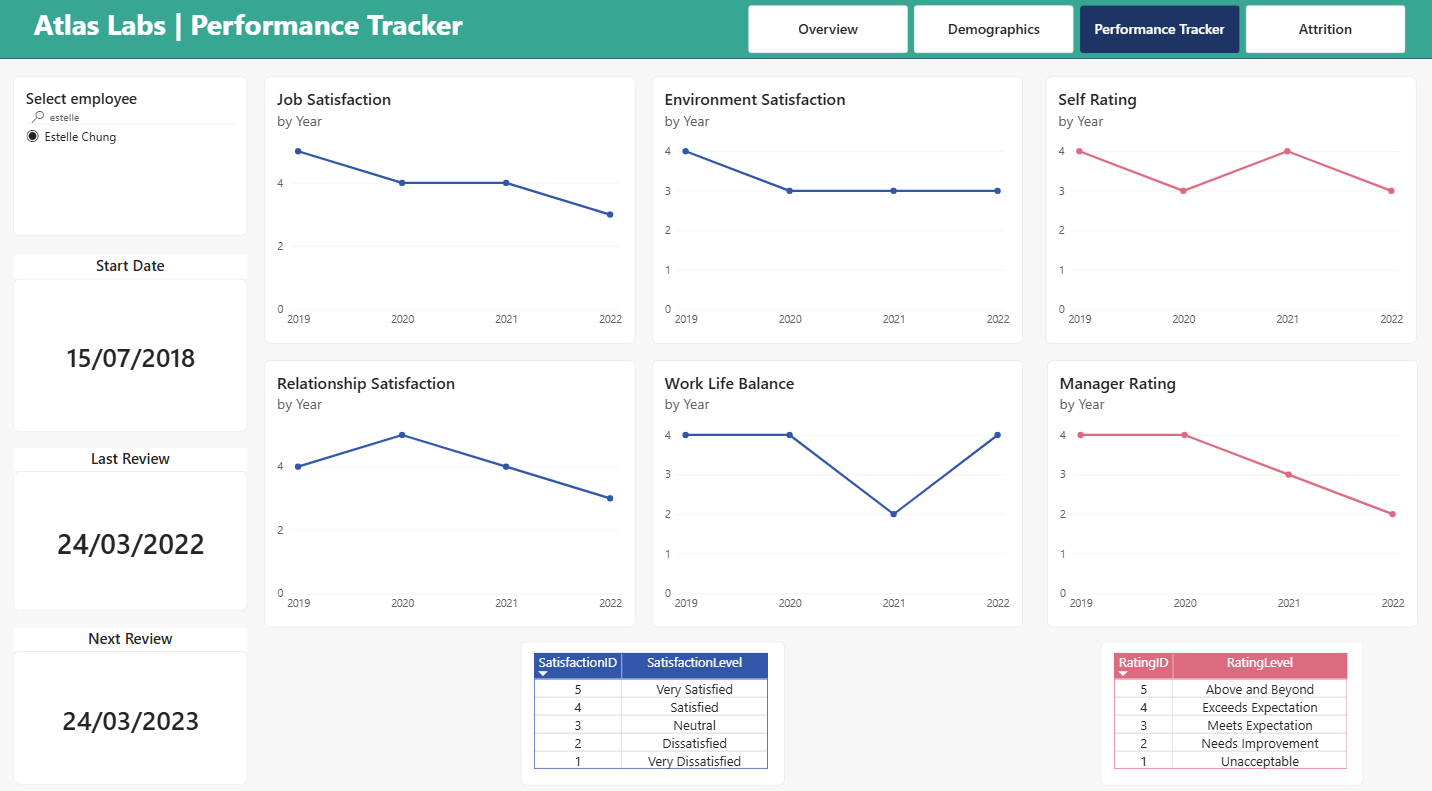

What the dashboard file says about the page in this screenshot:
{"tool":"powerbi","page":{"name":"Performance Tracker","canvas":[1920,1080],"ordinal":2},"visuals":[{"type":"listSlicer","title":"Select employee","fields":{"Values":["DimEmployee.FullName"]},"box":[22,104,312,212],"z":0},{"type":"cardVisual","title":"Start Date","fields":{"Data":["Min(DimEmployee.HireDate)"]},"box":[22,342,312,236],"z":1000},{"type":"cardVisual","title":"Last Review","fields":{"Data":["_Measures.LastReviewDate"]},"box":[22,598,312,218],"z":2000},{"type":"cardVisual","title":"Next Review","fields":{"Data":["_Measures.NextReviewDate"]},"box":[22,838,312,210],"z":3000},{"type":"shape","box":[0,0,1920.1,79.6],"z":4000},{"type":"textbox","box":[0,9,669.6,70.6],"z":5000},{"type":"pageNavigator","box":[1002,8,876,64],"z":6000},{"type":"lineChart","fields":{"Y":["_Measures.JobSatisfaction"],"Category":["DimDate.Year"]},"box":[356,104,494,356],"z":7000},{"type":"lineChart","fields":{"Category":["DimDate.Year"],"Y":["_Measures.EnvironmentSatisfaction"]},"box":[874,104,494,356],"z":8000},{"type":"lineChart","fields":{"Category":["DimDate.Year"],"Y":["_Measures.SelfRating"]},"box":[1398,104,494,356],"z":9000},{"type":"lineChart","fields":{"Category":["DimDate.Year"],"Y":["_Measures.RelationshipSatisfaction"]},"box":[356,482,494,356],"z":10000},{"type":"lineChart","fields":{"Category":["DimDate.Year"],"Y":["_Measures.WorkLifeBalance"]},"box":[874,482,494,356],"z":11000},{"type":"lineChart","fields":{"Category":["DimDate.Year"],"Y":["_Measures.ManagerRating"]},"box":[1400,482,494,356],"z":12000},{"type":"tableEx","fields":{"Values":["DimSatisfiedLevel.SatisfactionID","DimSatisfiedLevel.SatisfactionLevel"]},"box":[698,856,352,192],"z":13000},{"type":"tableEx","fields":{"Values":["DimRatingLevel.RatingID","DimRatingLevel.RatingLevel"]},"box":[1472,856,350,192],"z":13001}]}

Visuals, with their boxes in screenshot pixels (x1, y1, x2, y2), scaled from the page's 1920x1080 canvas onto the 1432x791 screenshot:
"Select employee" listSlicer: bbox=[16, 76, 249, 231]
"Start Date" cardVisual: bbox=[16, 250, 249, 423]
"Last Review" cardVisual: bbox=[16, 438, 249, 598]
"Next Review" cardVisual: bbox=[16, 614, 249, 768]
shape: bbox=[0, 0, 1431, 58]
textbox: bbox=[0, 7, 499, 58]
pageNavigator: bbox=[747, 6, 1401, 53]
lineChart - _Measures.JobSatisfaction x DimDate.Year: bbox=[266, 76, 634, 337]
lineChart - DimDate.Year x _Measures.EnvironmentSatisfaction: bbox=[652, 76, 1020, 337]
lineChart - DimDate.Year x _Measures.SelfRating: bbox=[1043, 76, 1411, 337]
lineChart - DimDate.Year x _Measures.RelationshipSatisfaction: bbox=[266, 353, 634, 614]
lineChart - DimDate.Year x _Measures.WorkLifeBalance: bbox=[652, 353, 1020, 614]
lineChart - DimDate.Year x _Measures.ManagerRating: bbox=[1044, 353, 1413, 614]
tableEx - DimSatisfiedLevel.SatisfactionID x DimSatisfiedLevel.SatisfactionLevel: bbox=[521, 627, 783, 768]
tableEx - DimRatingLevel.RatingID x DimRatingLevel.RatingLevel: bbox=[1098, 627, 1359, 768]
